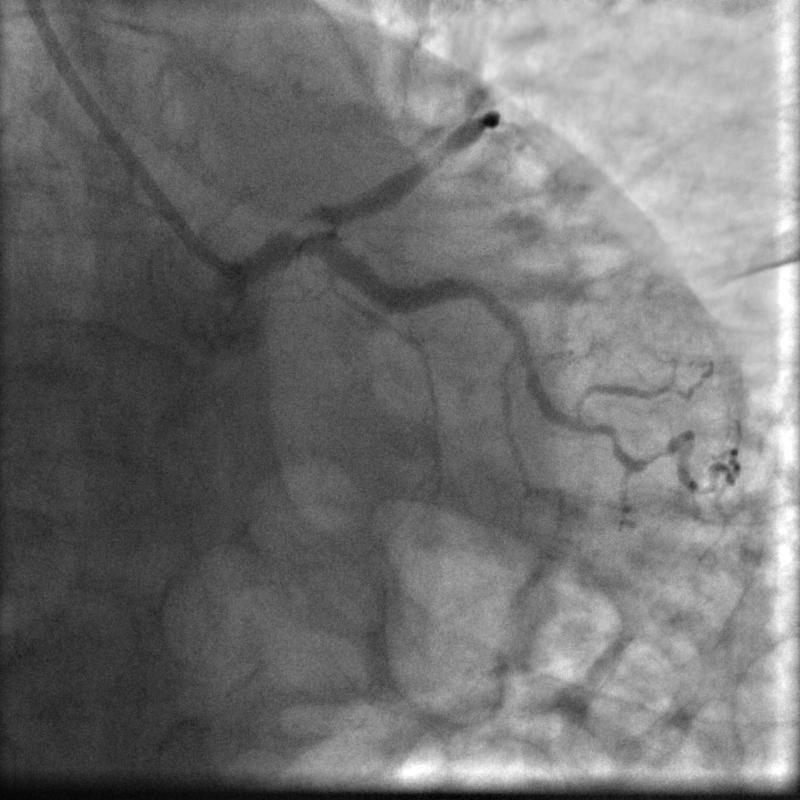Stenosis: (273, 198, 340, 249)
